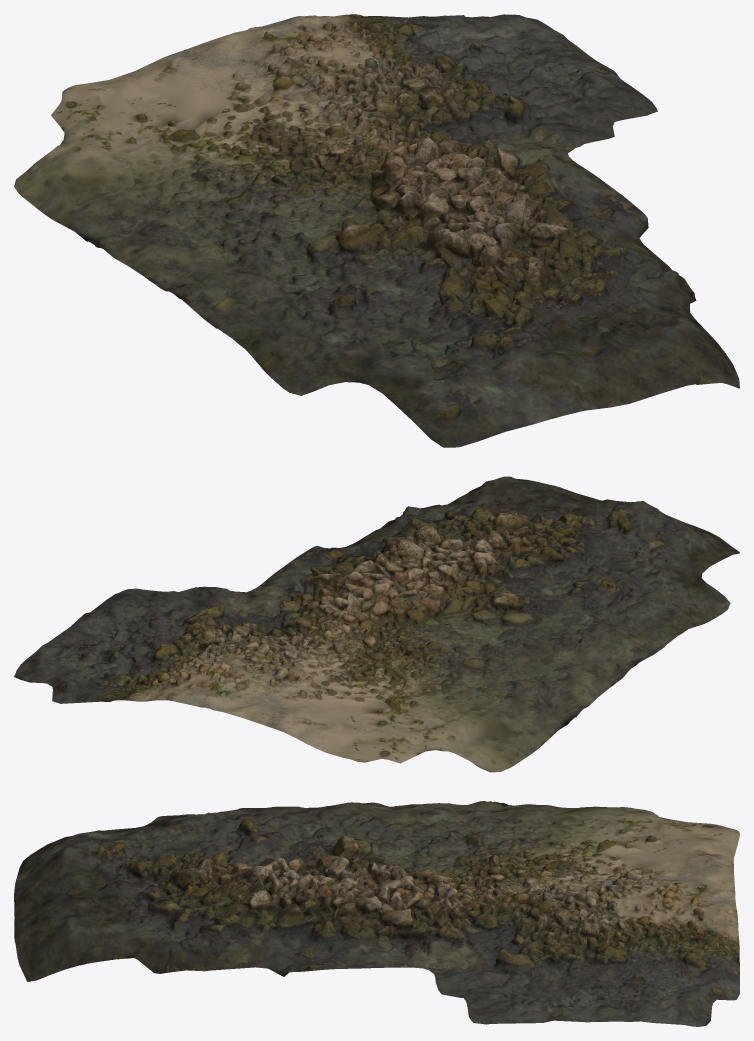
File: coast_rocks_03.glb
The picture shows the model from 3 angles, top to bottom: view 1: azimuth 30°, elevation 25°; view 2: azimuth 150°, elevation 25°; view 3: azimuth 270°, elevation 25°; orthographic projection. The views are drawn at different scales.
Parts seen in each view (by area): view 1: coast_rocks_03; view 2: coast_rocks_03; view 3: coast_rocks_03.
Boxes of the visible parts, x1,y1,x2,y2 form: coast_rocks_03: (14, 14, 739, 447); coast_rocks_03: (14, 476, 739, 772); coast_rocks_03: (14, 801, 739, 1026).
Bounding box in the file's own units: 21.12 × 3.2 × 28.27.
Materials: 1 (1 with a texture image).
